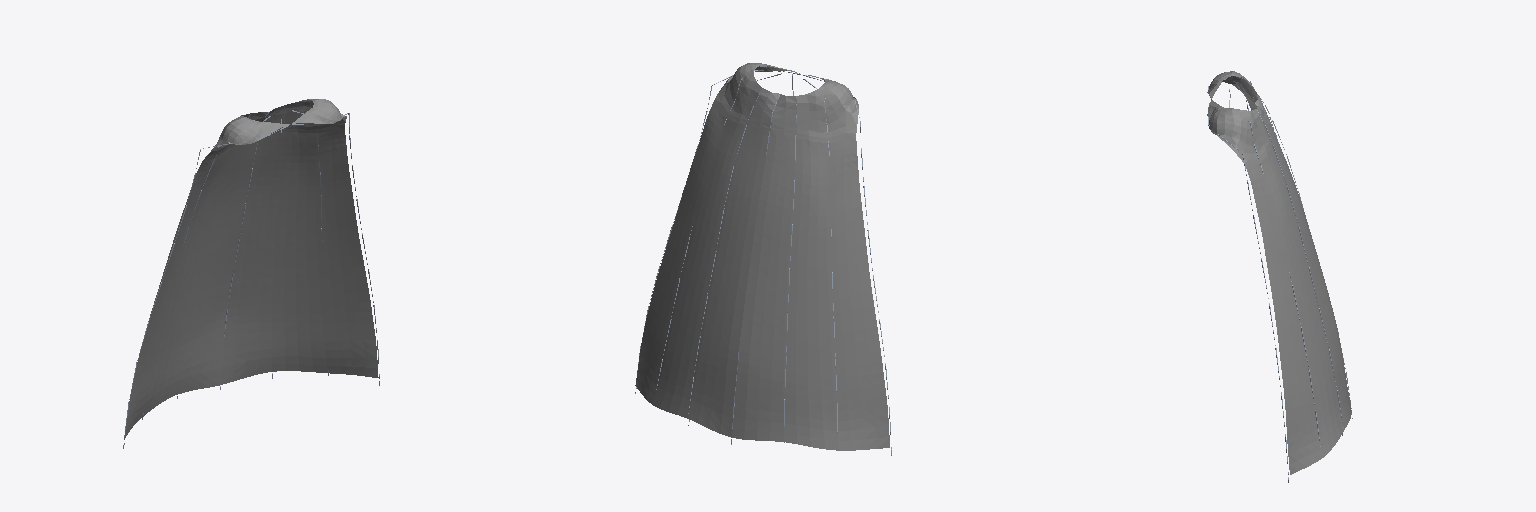
Rendered from Cape.obj.
3 renders of one model, left to right at view 1: azimuth 30°, elevation 25°; view 2: azimuth 150°, elevation 25°; view 3: azimuth 270°, elevation 25°, orthographic.
Parts seen in each view (by area): view 1: Cape_Mesh_D; view 2: Cape_Mesh_D; view 3: Cape_Mesh_D.
Part boxes in pixels (x1,y1,x2,y2): Cape_Mesh_D: (124,99,378,439); Cape_Mesh_D: (635,63,889,450); Cape_Mesh_D: (1208,71,1351,474).
Size of the model in its own units: 155 by 191 by 75.98.